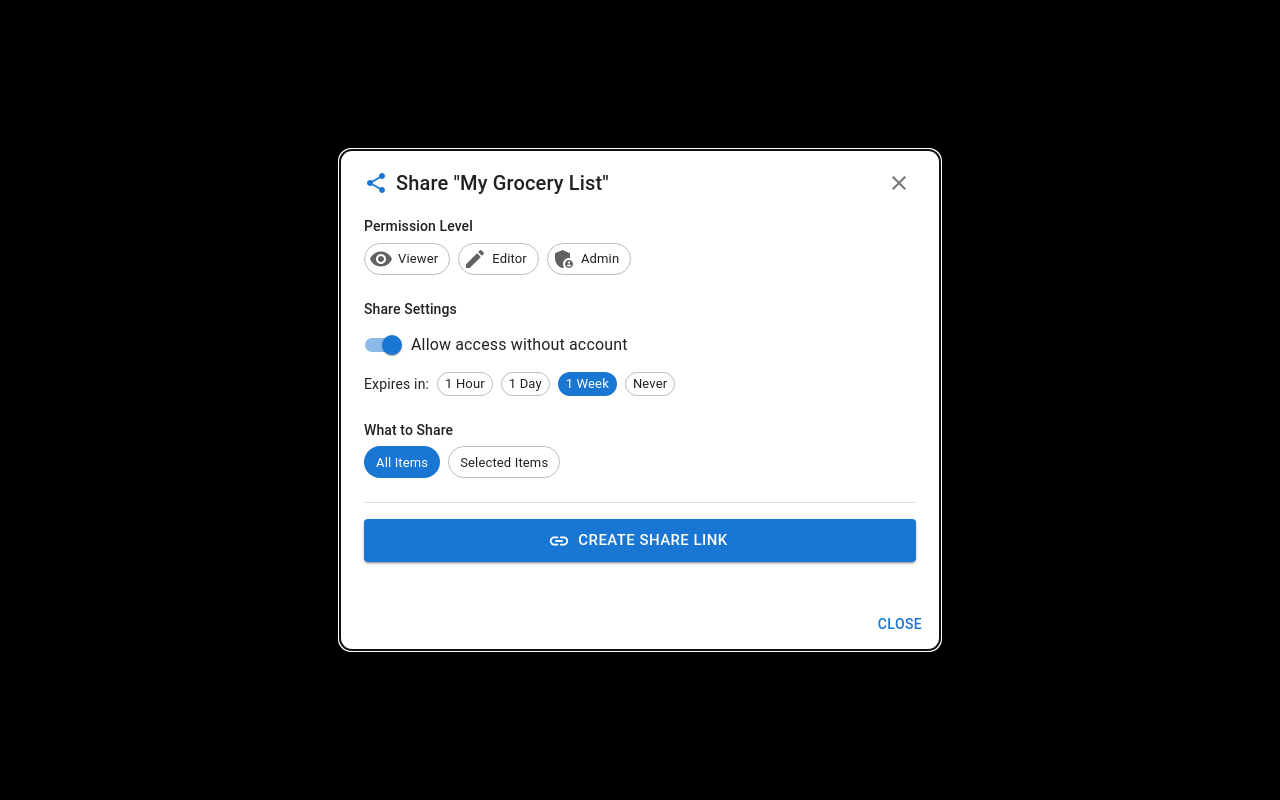
SmartShareDialog › Share URL Generation › should show loading state while generating
Click the button "Create Share Link" at (640, 541), box [364,519,916,562]
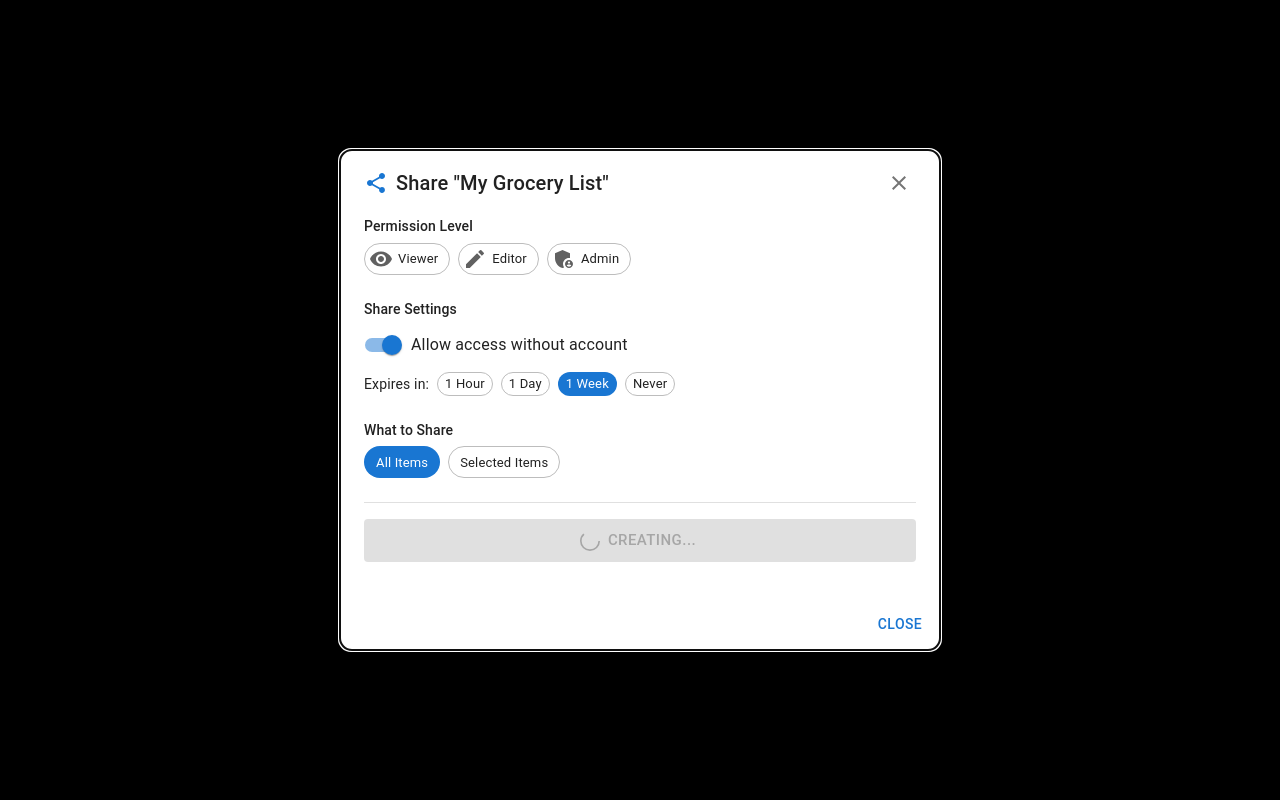
Now the progress indicator is shown, box [580,530,600,550]
